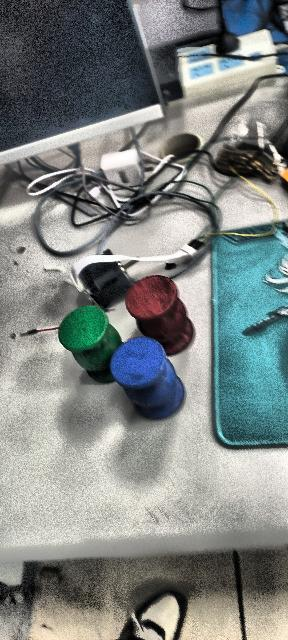blue: (109, 336, 185, 420)
green: (58, 300, 122, 384)
red: (124, 278, 196, 353)
